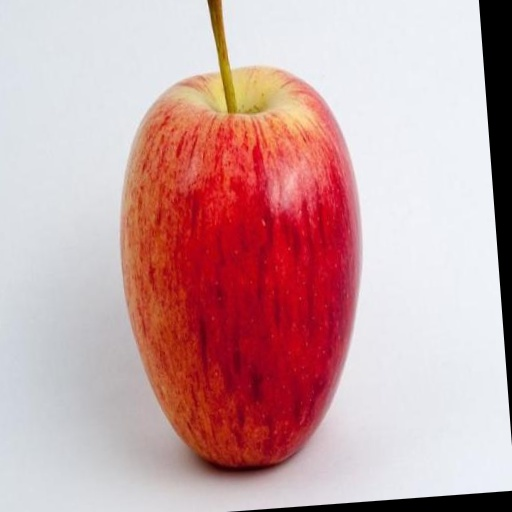fruit: (120, 68, 360, 467)
